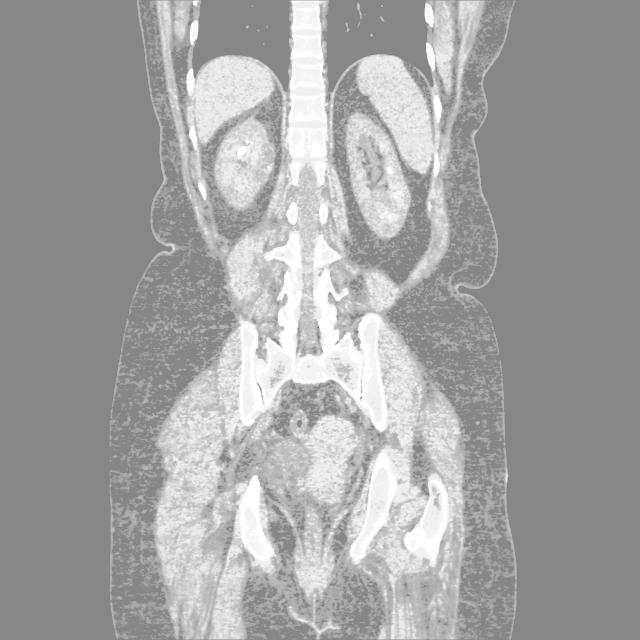STONE: (130, 139, 503, 299)
